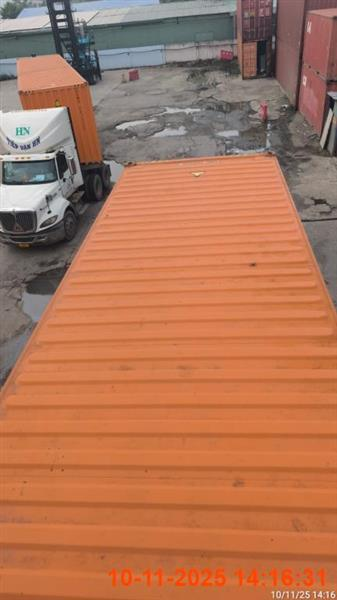bent: (1, 150, 335, 599), (0, 53, 112, 248)
